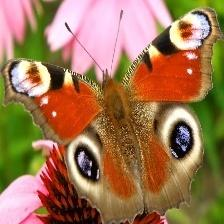butterfly: (2, 9, 222, 224)
